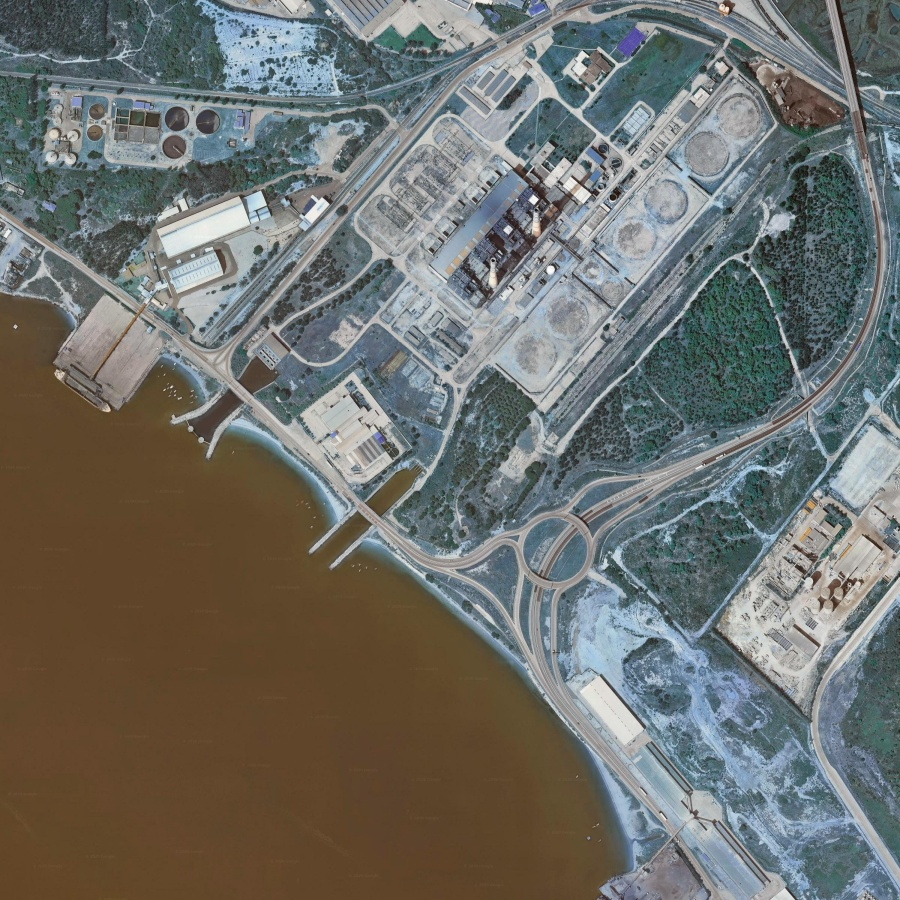PowerPlant: (389, 40, 764, 381)
